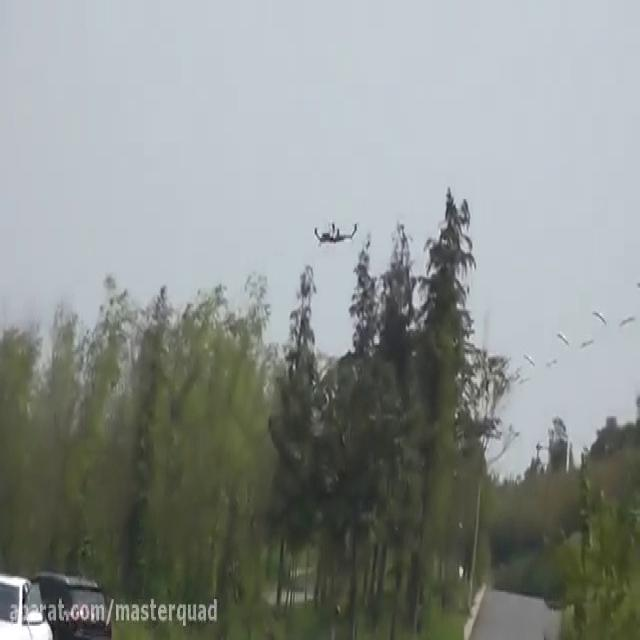drone: (310, 214, 361, 248)
